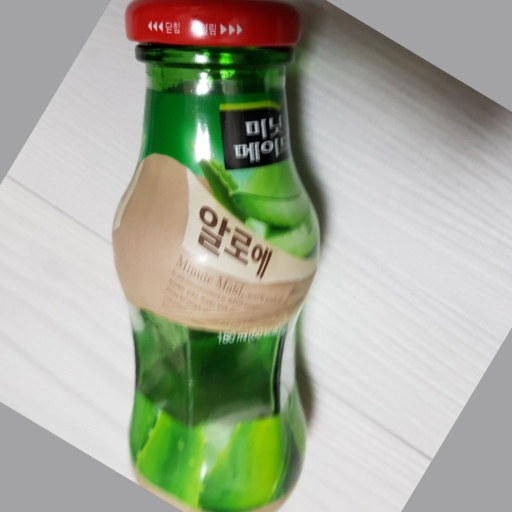Glass_4: (113, 1, 327, 507)
